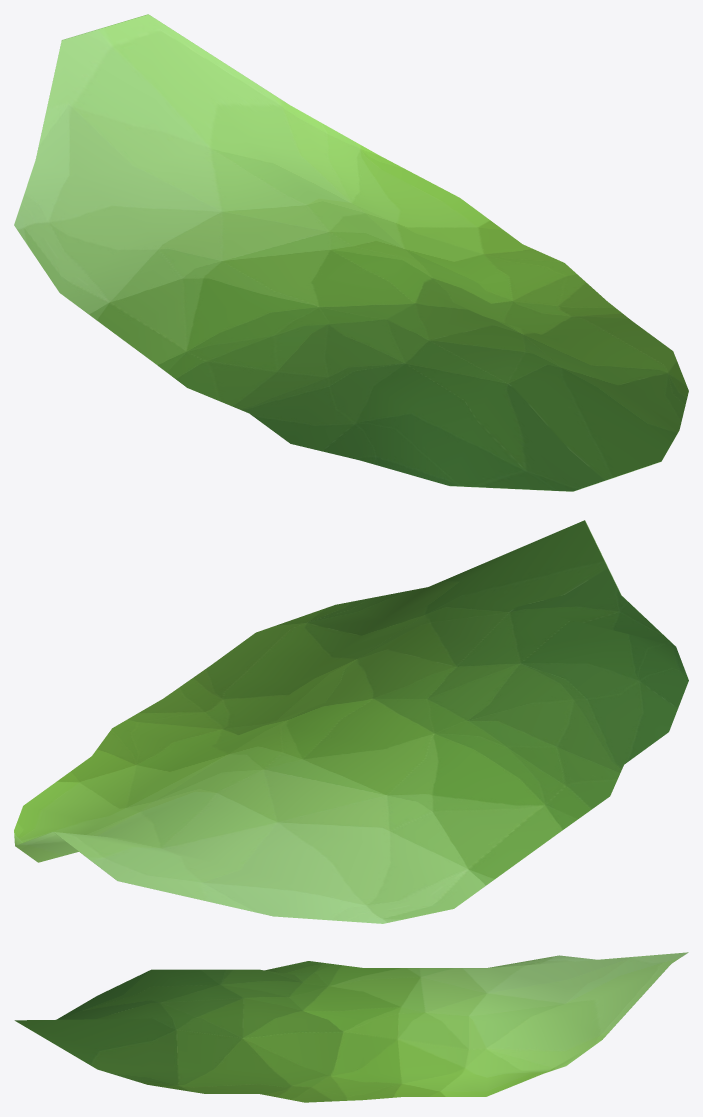
File: single_leaf.fbx
3 renders of one model, top to bottom at view 1: azimuth 30°, elevation 25°; view 2: azimuth 150°, elevation 25°; view 3: azimuth 270°, elevation 25°, orthographic. The views are drawn at different scales.
Visible parts, largest first — view 1: single_leaf; view 2: single_leaf; view 3: single_leaf.
Part boxes in pixels (<box>): single_leaf: <box>14,14,688,491</box>; single_leaf: <box>14,520,688,923</box>; single_leaf: <box>14,952,688,1102</box>.
Bounding box in the file's own units: 0.1499 × 0.0428 × 0.3196.
